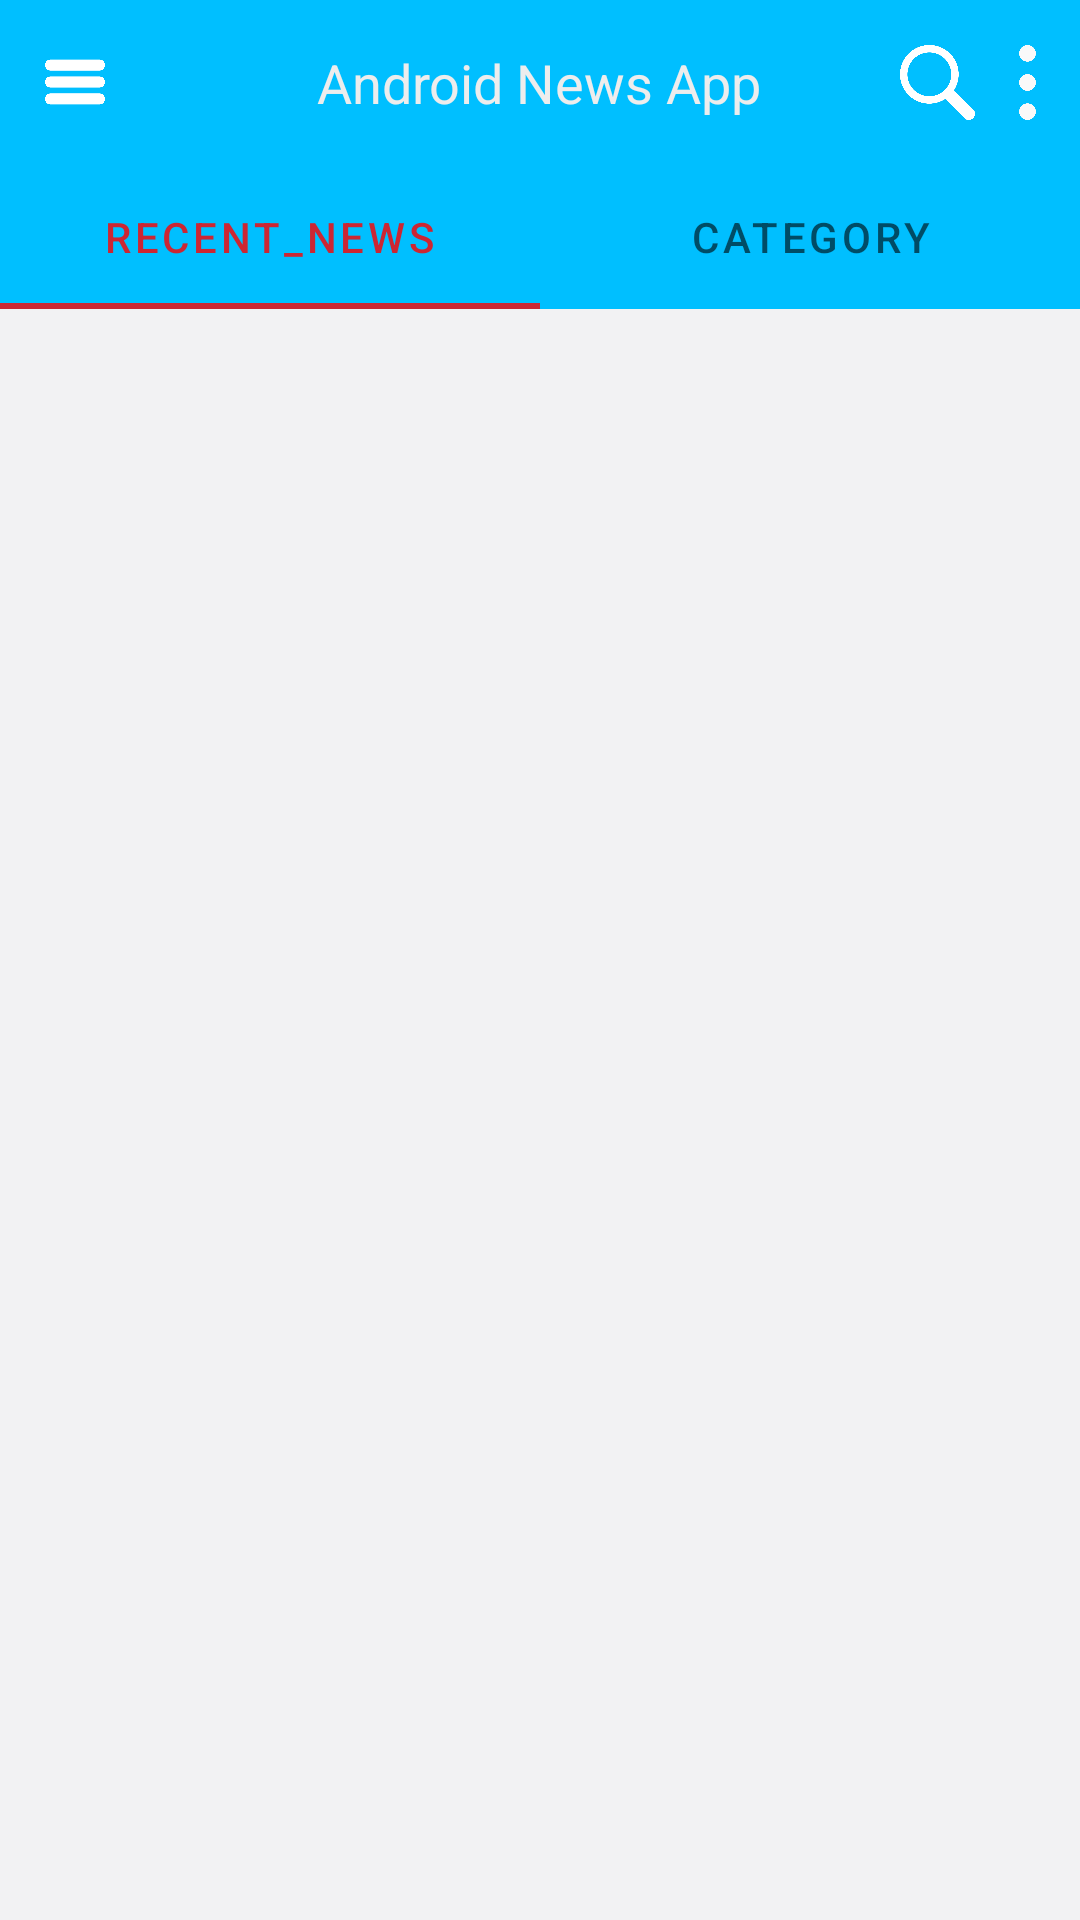

Where to tap for icons on this 1080x1920 app screen, as (x,y):
drawyer: (75,82)
mores: (1027,82)
search: (937,82)
